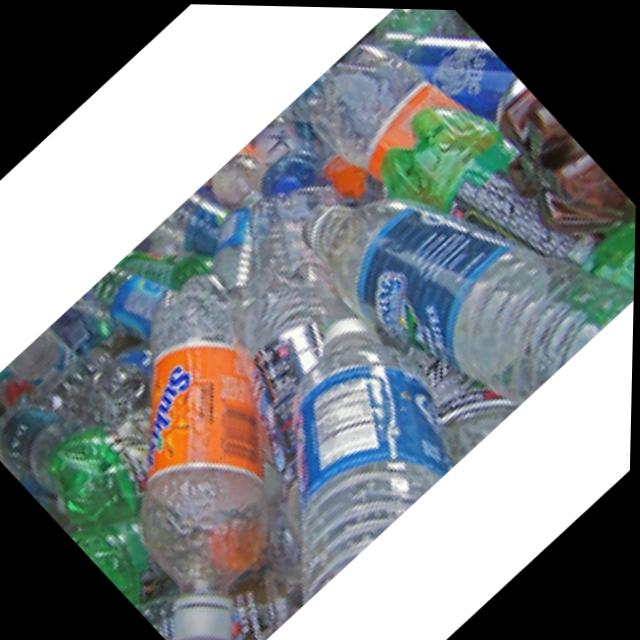plastic_soda_bottles: (0, 247, 415, 640), (345, 39, 639, 383)
plastic_water_bottles: (279, 71, 639, 444), (177, 304, 481, 606)
